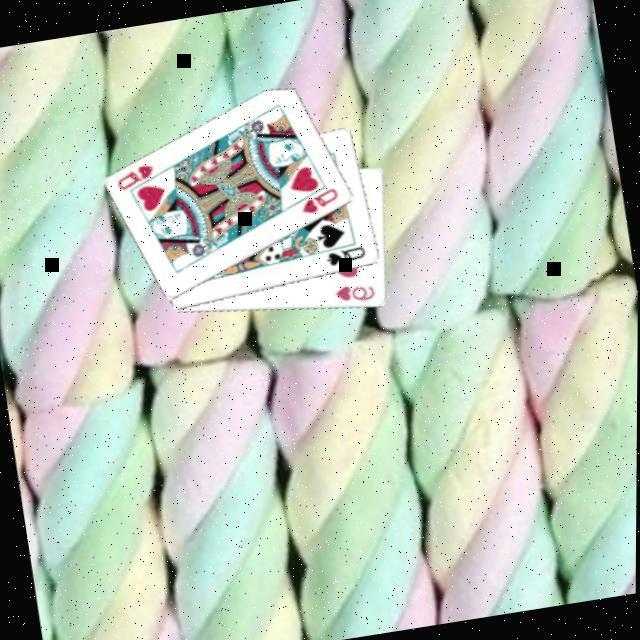6H: (331, 280, 378, 310)
QH: (111, 160, 167, 200), (295, 184, 343, 220)
QS: (321, 244, 368, 272)
